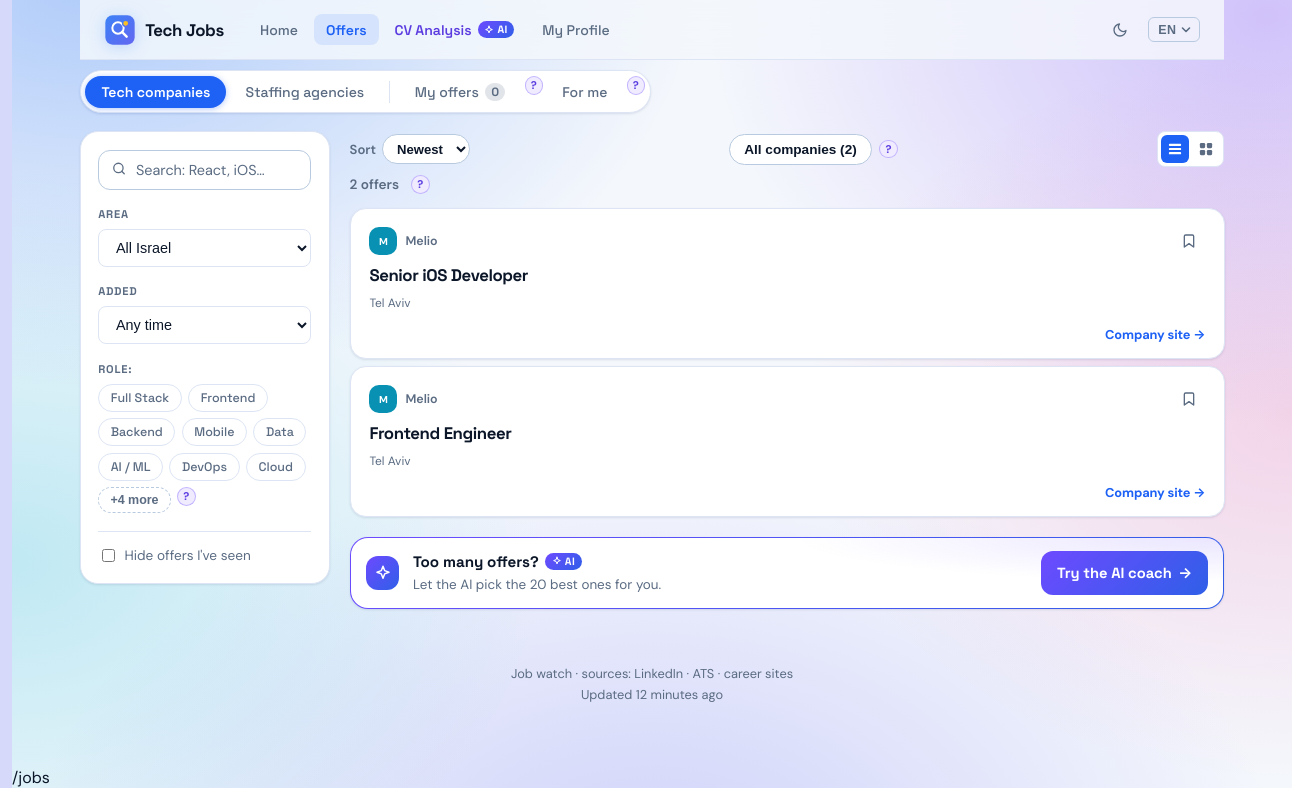
it: Autocomplete in the offers browser (integration) › picking a technology searches for it immediately (no debounce wait)
Expected: the link "Frontend Engineer" is shown, [369,422,511,444]
Step 1. Type "rea" into the dropdown labelled "Search: React, iOS…" → (205, 170), box [98,150,311,190]
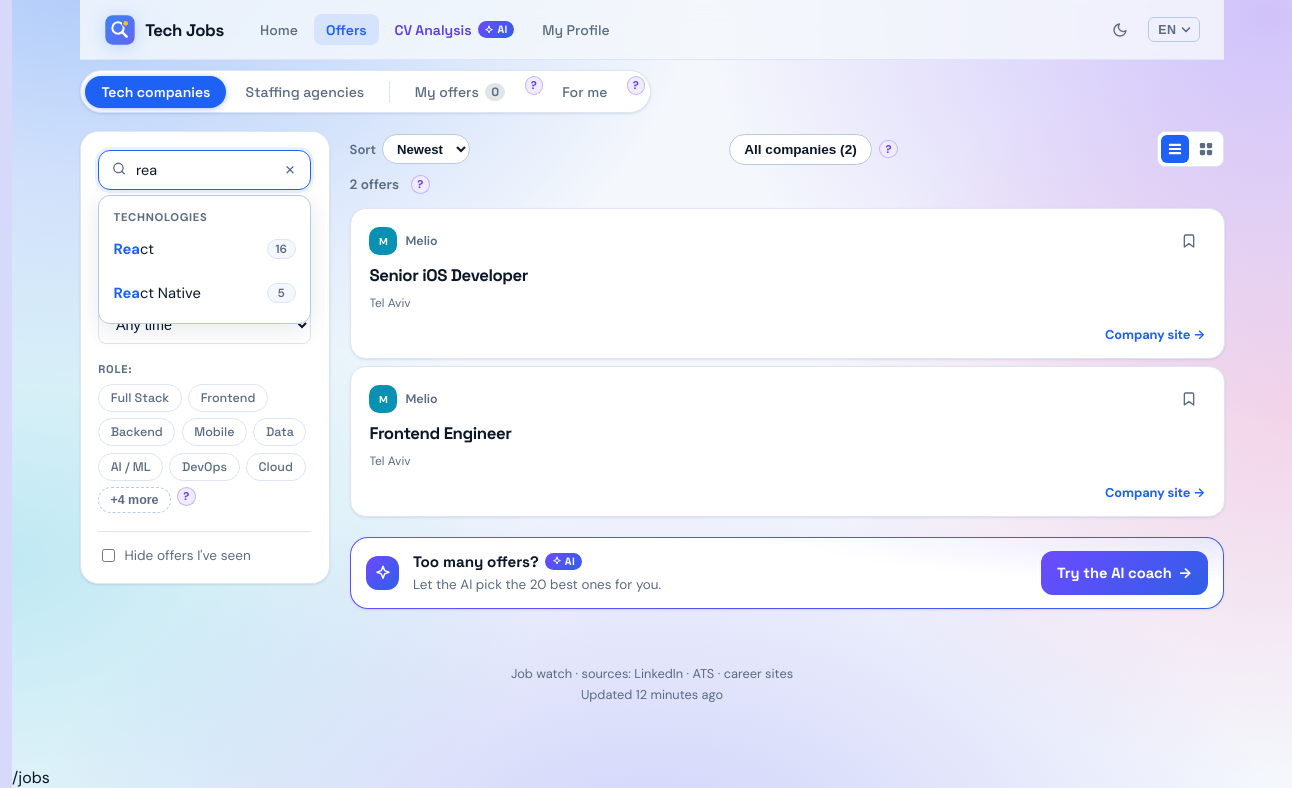
Step 2. Click the option named "React16" → (127, 249), box [114,239,296,259]
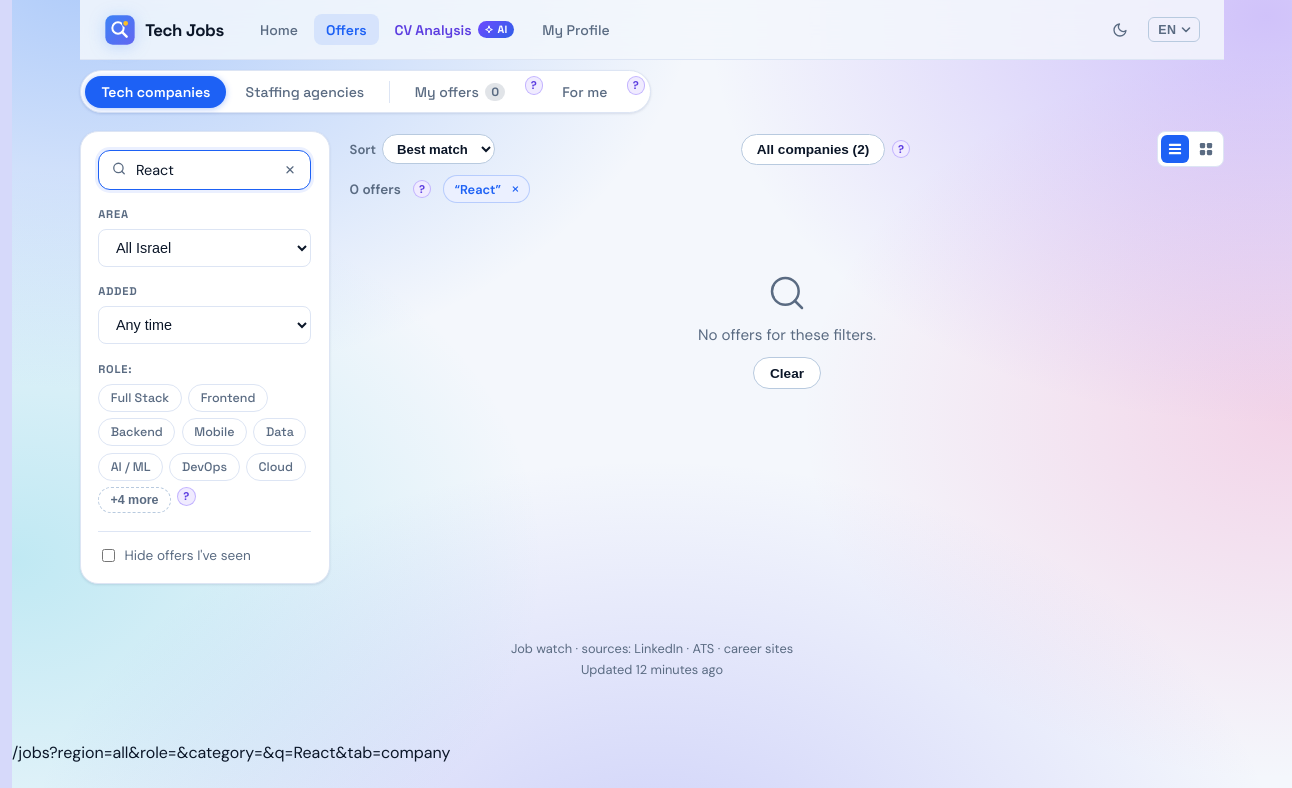
Expected: the dropdown named "Search" holds "React", [98,150,311,190]
Expected: the text with test id "location" shows "q=React", [12,742,450,763]
